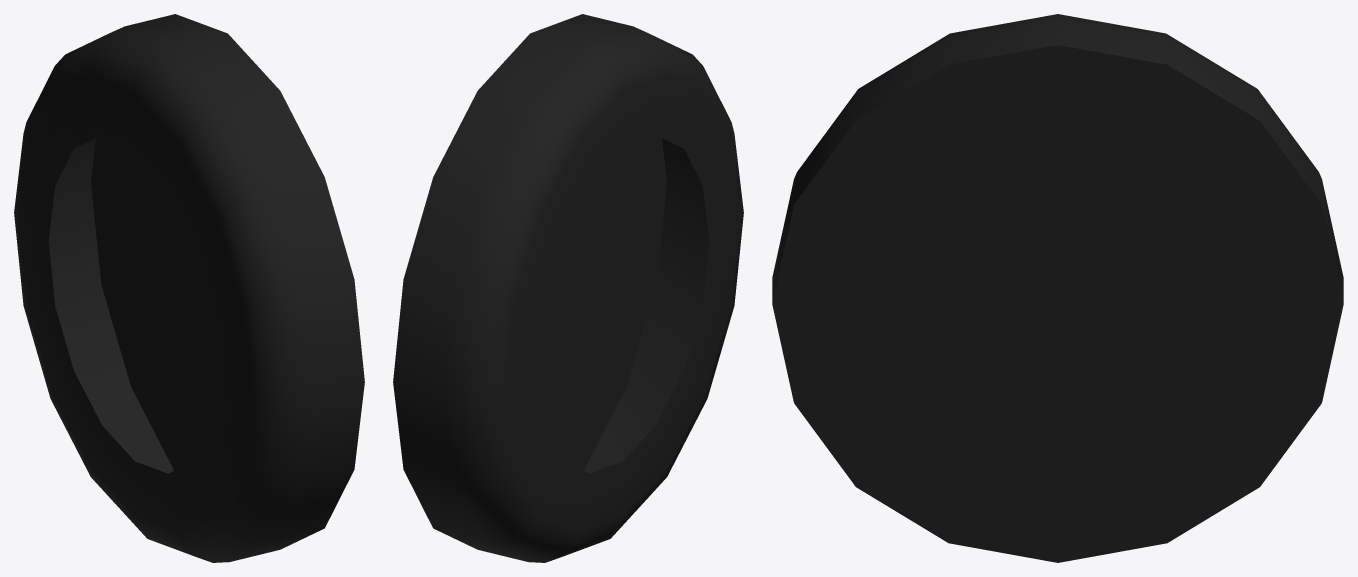
File: Oven Button 1.fbx
3 views of the same model, side by side, from view 1: azimuth 30°, elevation 25°; view 2: azimuth 150°, elevation 25°; view 3: azimuth 270°, elevation 25° (orthographic). The views are drawn at different scales.
Parts seen in each view (by area): view 1: Oven Button 1; view 2: Oven Button 1; view 3: Oven Button 1.
Boxes of the visible parts, bbox=[...] form: Oven Button 1: bbox=[14, 14, 364, 562]; Oven Button 1: bbox=[393, 14, 743, 562]; Oven Button 1: bbox=[772, 14, 1343, 562].
Bounding box in the file's own units: 0.6882 × 3.52 × 3.52.
